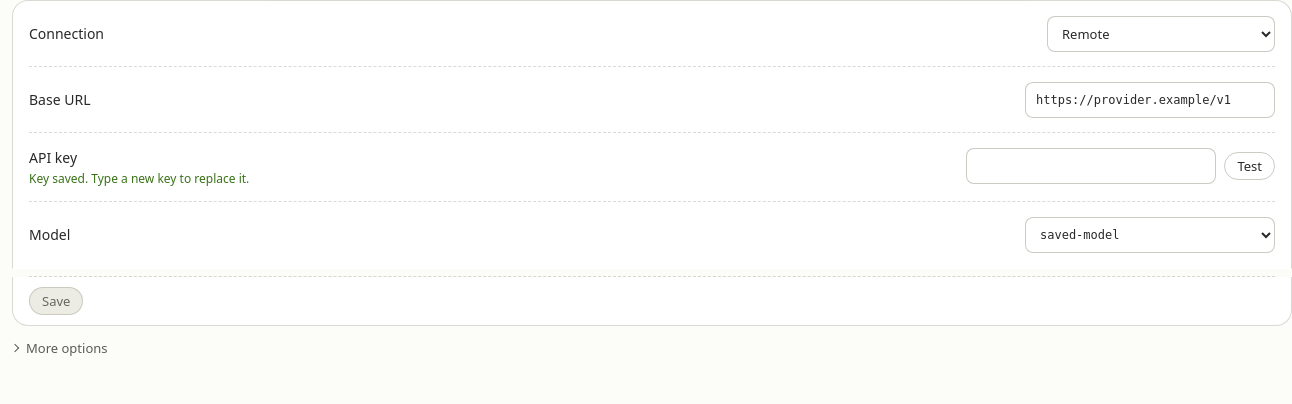
Test case: clears the typed key at once on a failed save and reloads a partial save
Type "synthetic-secret" into the password field named "API key". click: (1091, 166)
box: x1=966 y1=148 x2=1216 y2=184
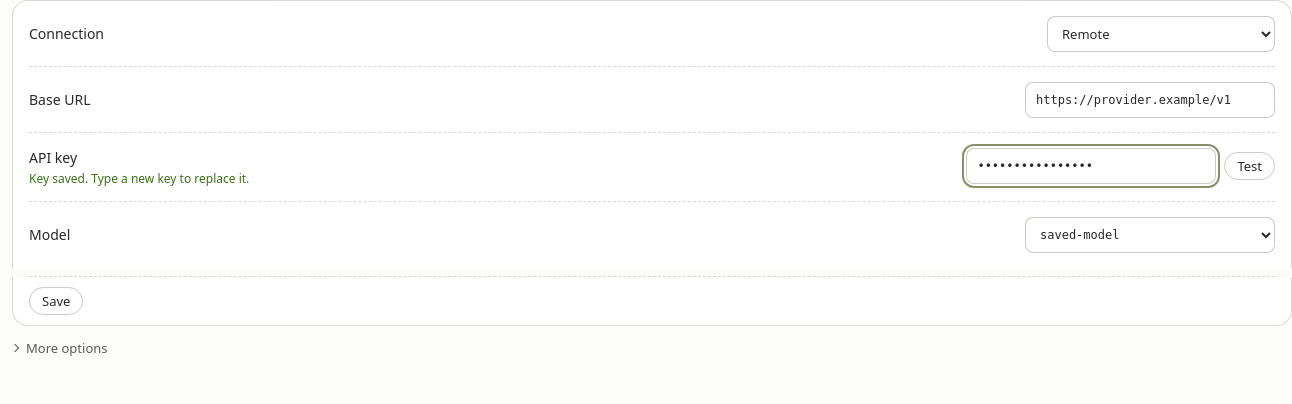
Expected: the button "Save" is enabled
Click the button "Save". click: (56, 301)
box: x1=29 y1=287 x2=83 y2=315
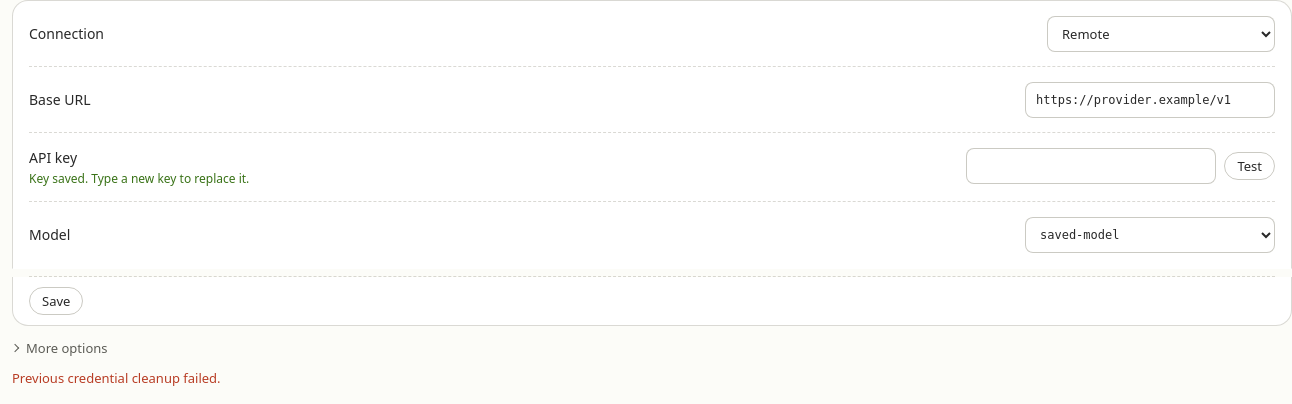
Expected: the password field named "API key" is empty, x1=966 y1=148 x2=1216 y2=184
Expected: the message reads "Previous credential cleanup failed.", x1=12 y1=369 x2=221 y2=387
